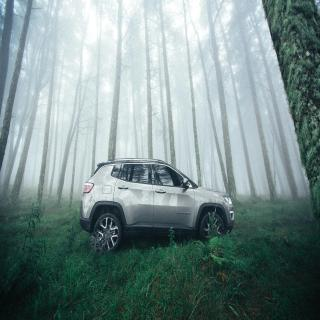Normal_vehicle: (82, 157, 235, 253)
